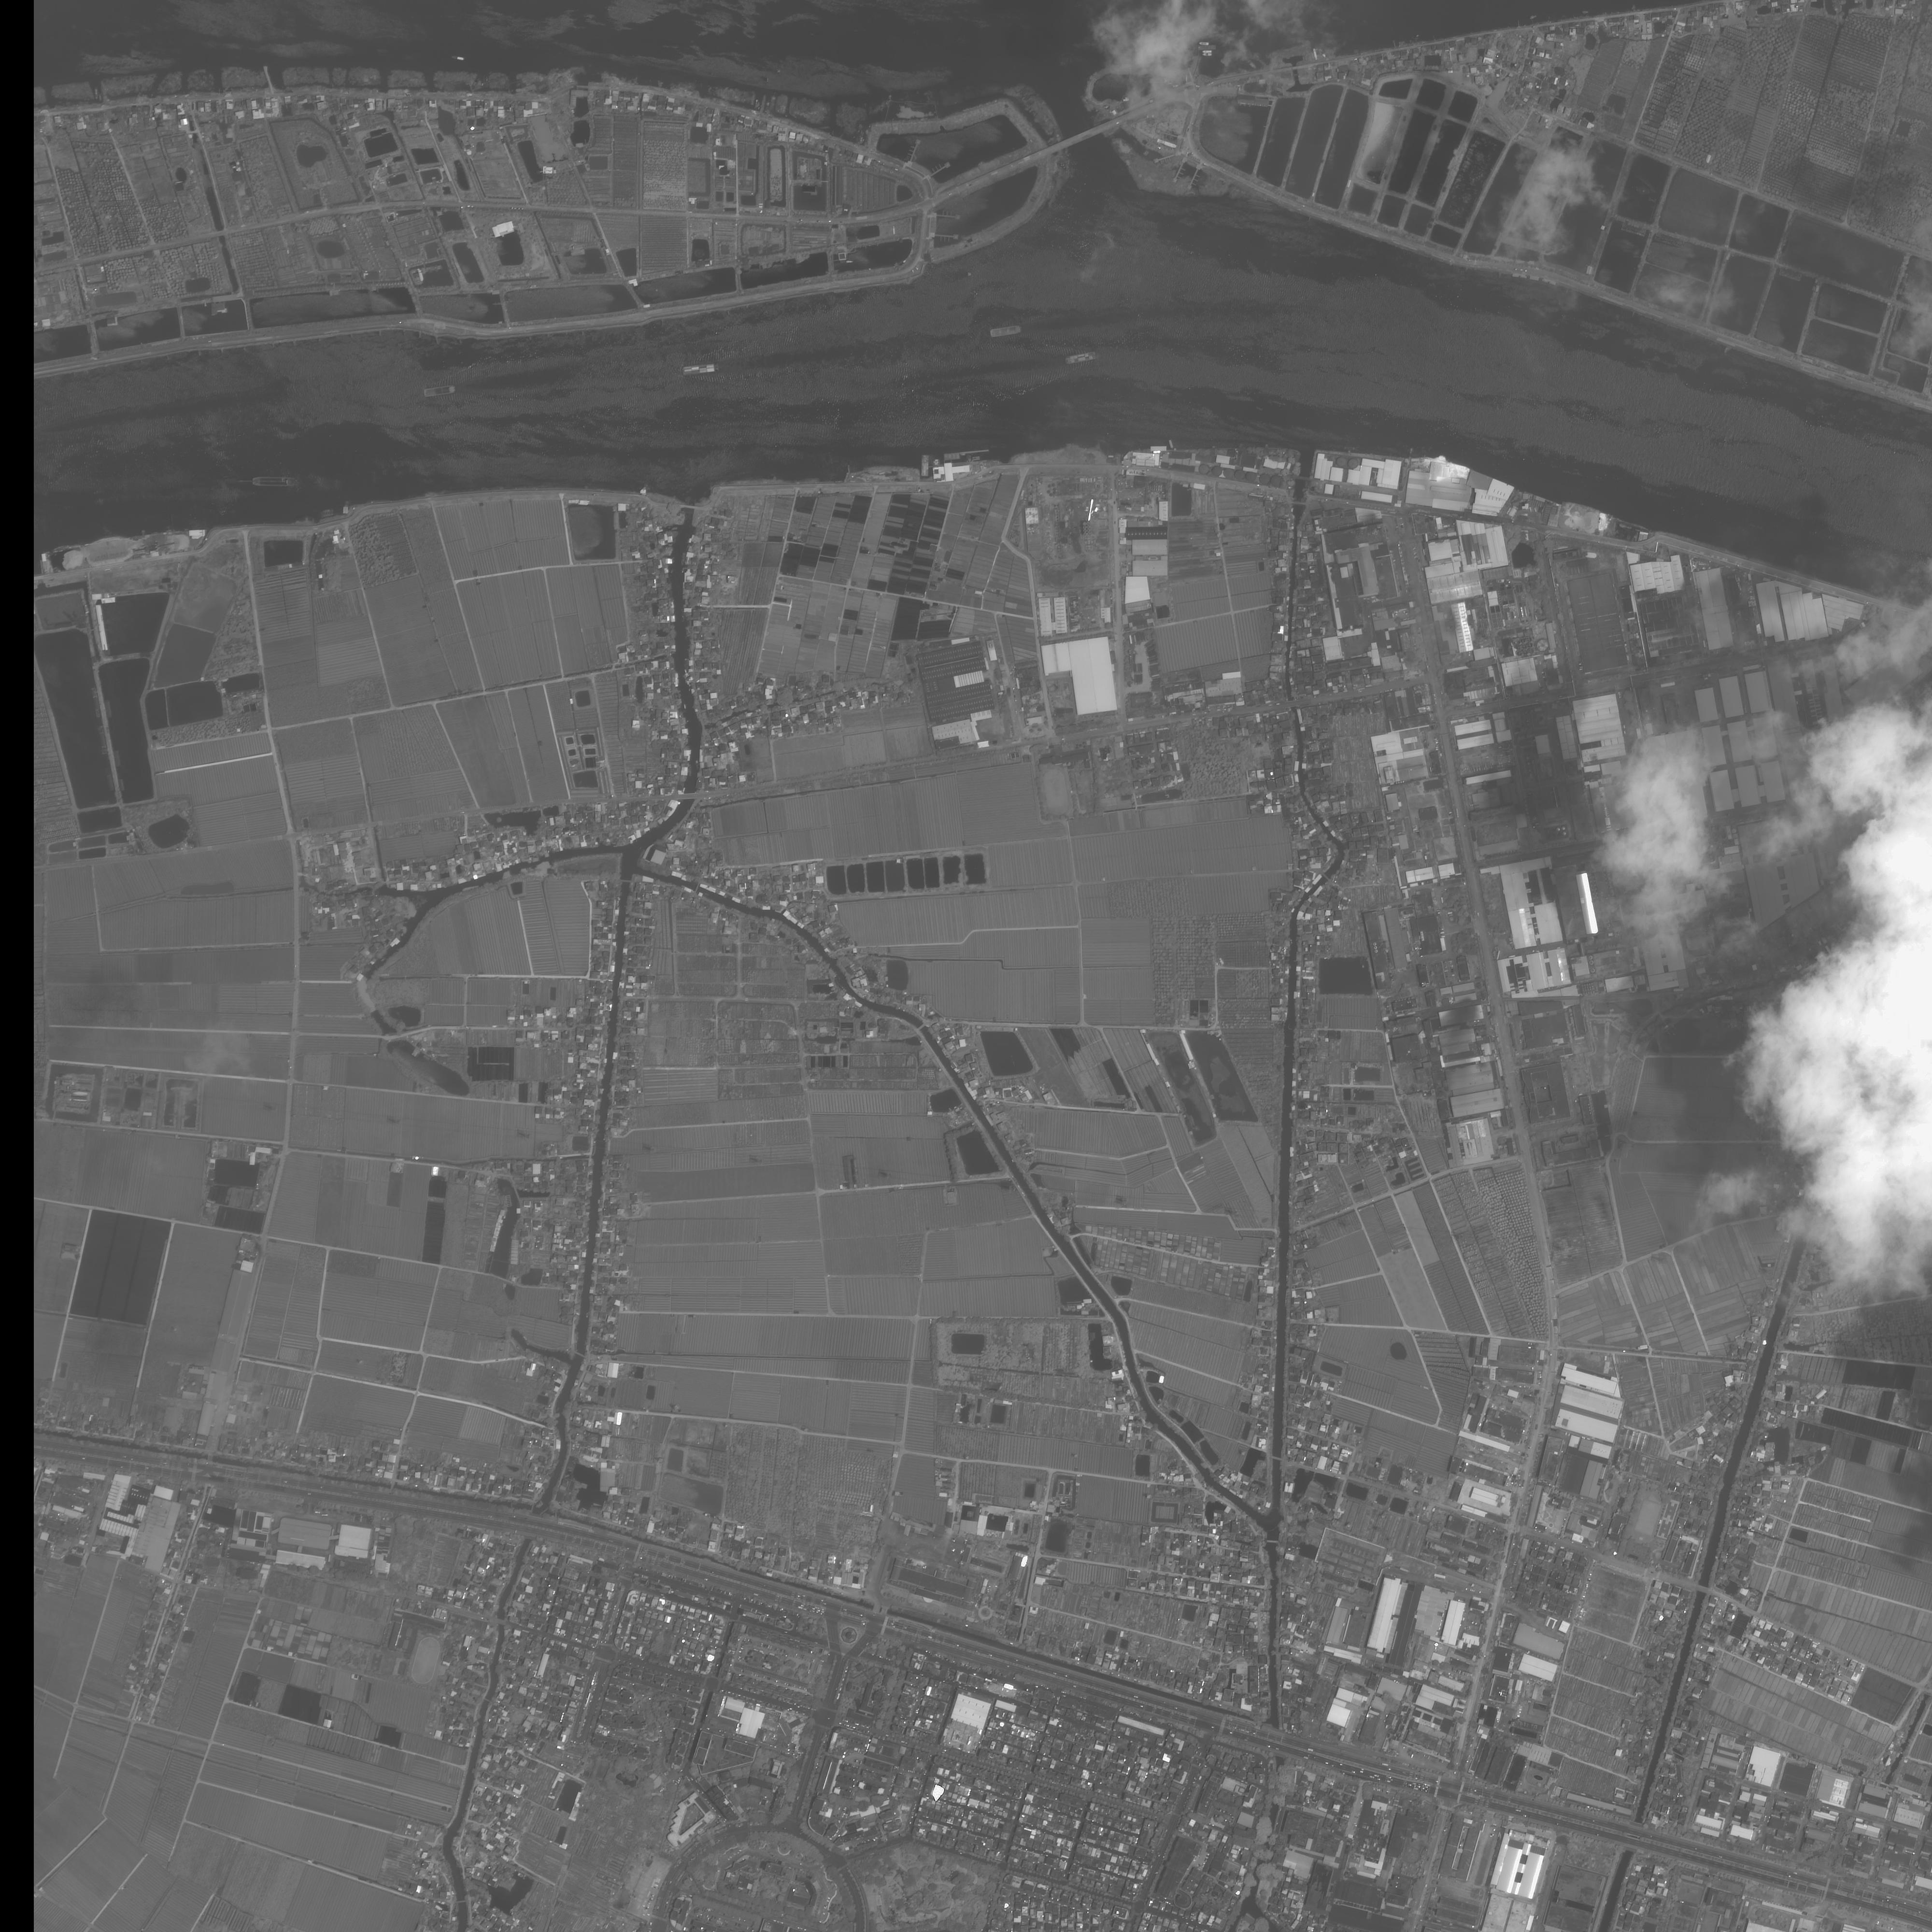ship: (1065, 350, 1097, 368), (989, 324, 1021, 340), (251, 476, 299, 487), (423, 384, 456, 396), (681, 364, 718, 375), (449, 53, 465, 64), (1196, 41, 1210, 46), (1201, 50, 1212, 55), (1203, 53, 1212, 57)
